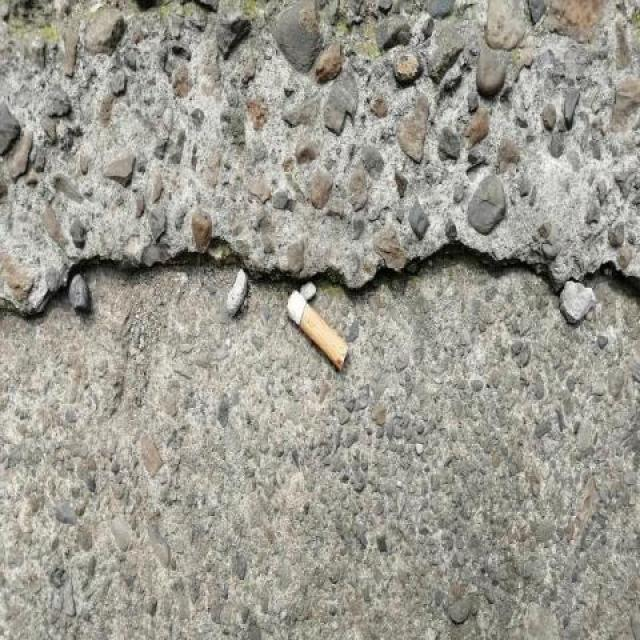non-organic waste: (279, 285, 353, 376)
